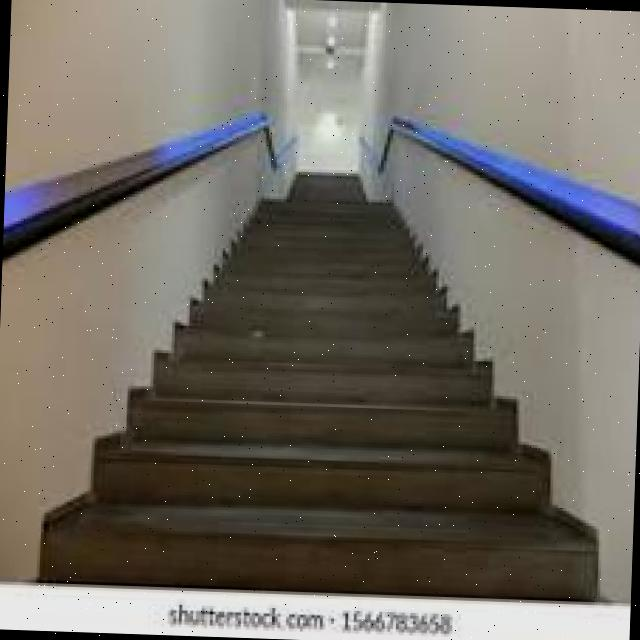stairs: (61, 104, 604, 602)
